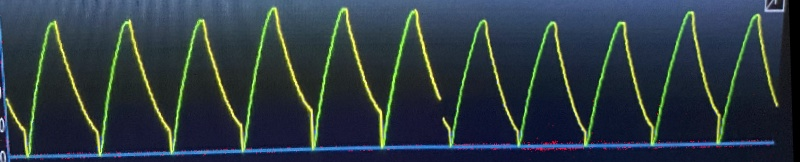leakage: (15, 0, 727, 155)
